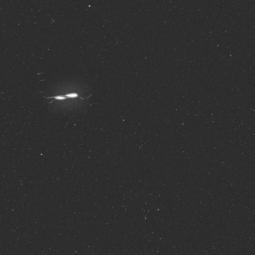proba_3_ocs: (26, 58, 107, 114)
